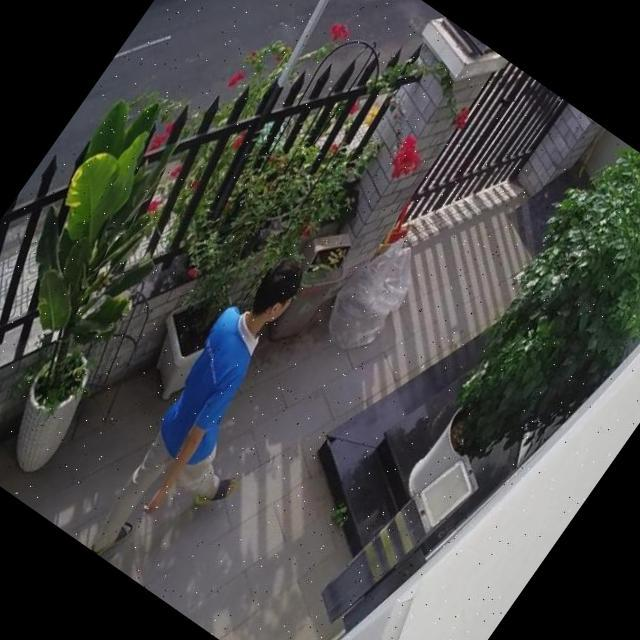person: (68, 238, 364, 598)
